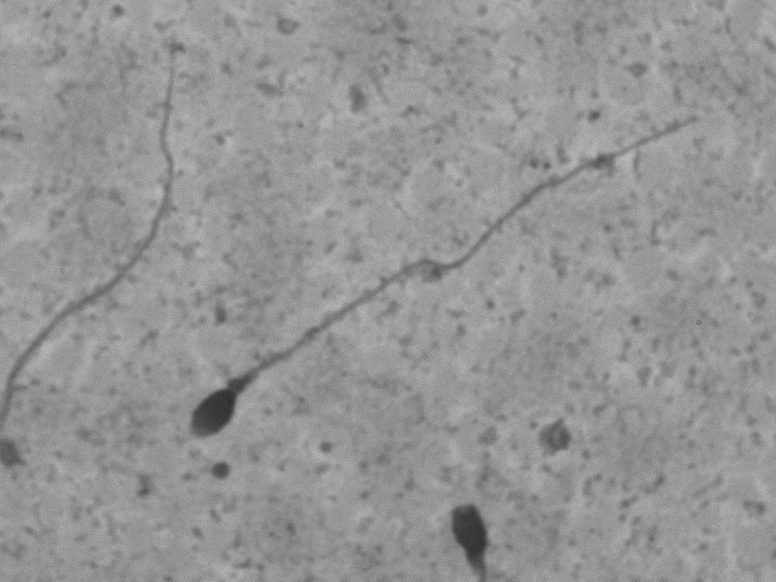Normal: (163, 94, 715, 452)
